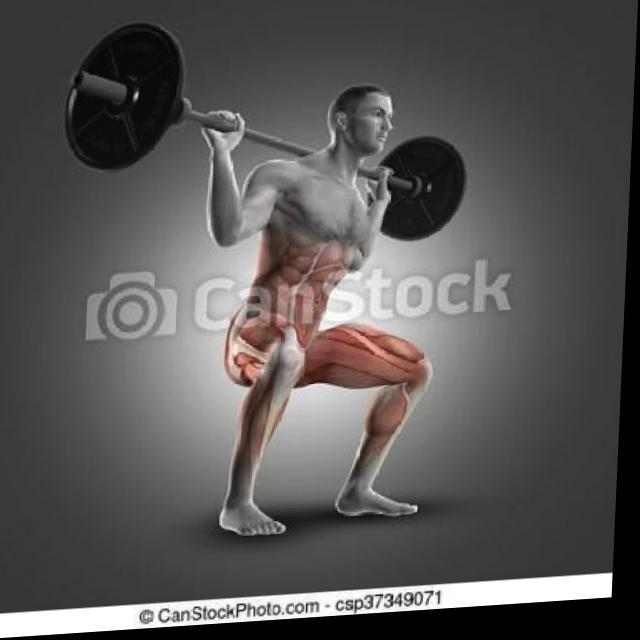barbell: (57, 22, 193, 178)
